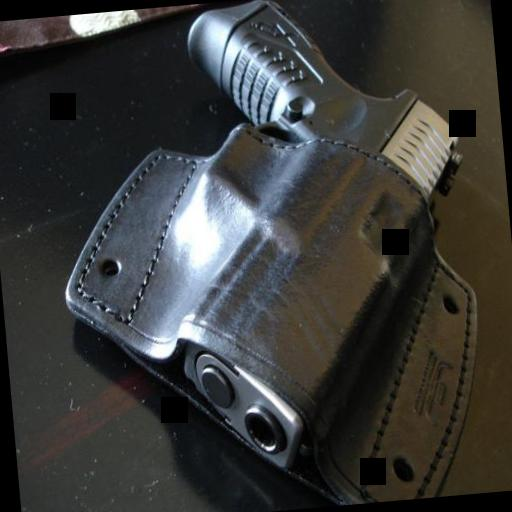Handgun: (144, 0, 486, 475)
